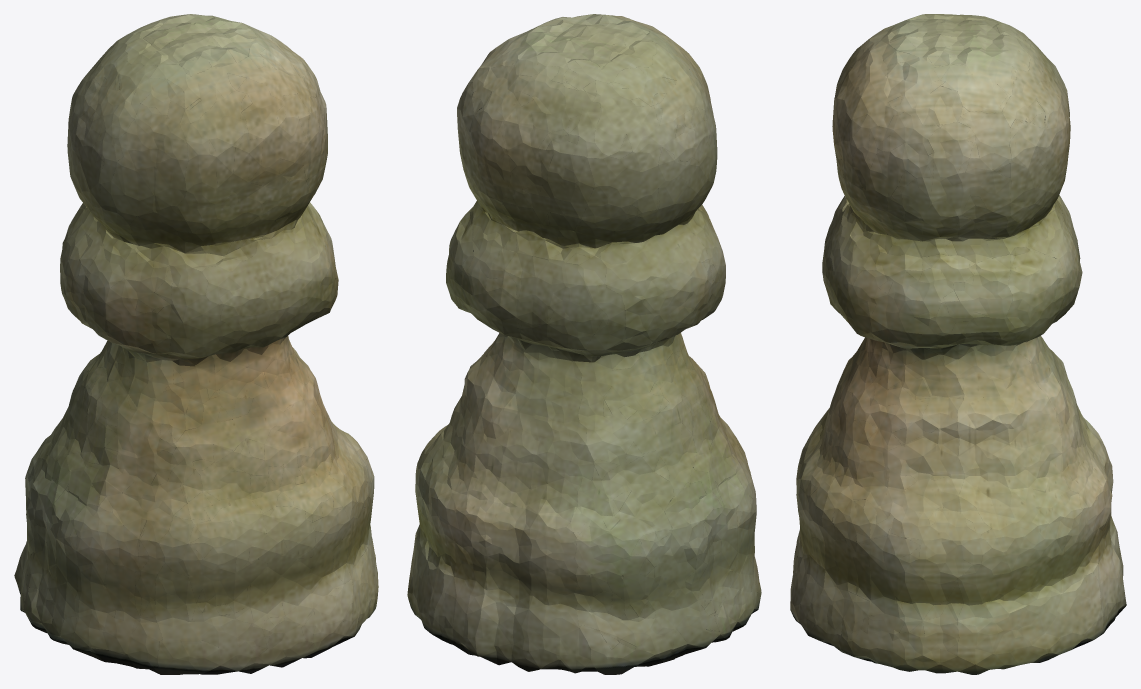
The model's file is chess.glb.
3 renders of one model, left to right at view 1: azimuth 30°, elevation 25°; view 2: azimuth 150°, elevation 25°; view 3: azimuth 270°, elevation 25°, orthographic.
Visible parts, largest first — view 1: chess; view 2: chess; view 3: chess.
Boxes of the visible parts, box(x1,y1,x2,y2) form: chess: box(14, 14, 378, 674); chess: box(407, 14, 761, 674); chess: box(790, 14, 1126, 674).
Size of the model in its own units: 0.4567 by 0.8018 by 0.4264.
1 material, 1 textured.
